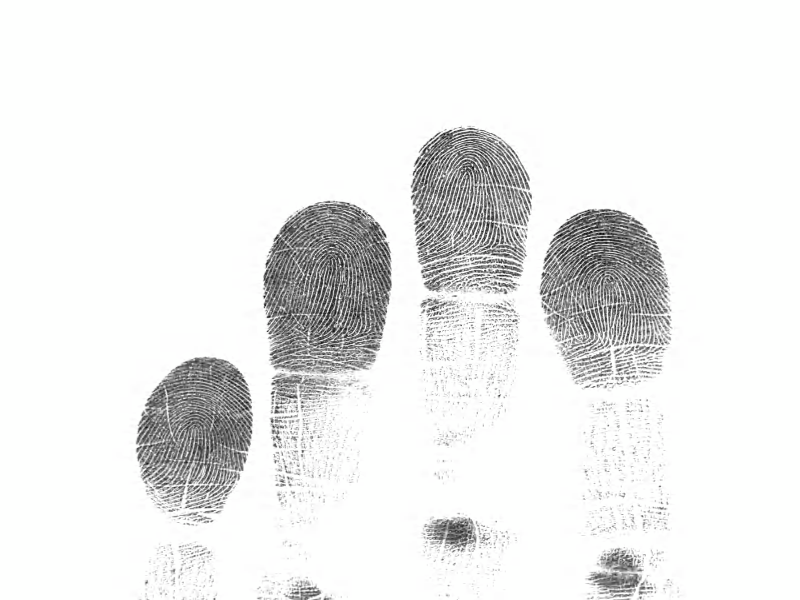D: (530, 200, 694, 403), (257, 188, 398, 376), (121, 348, 254, 530), (409, 116, 535, 299)
P: (265, 374, 387, 531), (416, 300, 526, 467), (564, 401, 687, 536), (126, 538, 224, 600)
